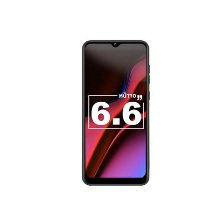phone: (77, 32, 150, 190)
